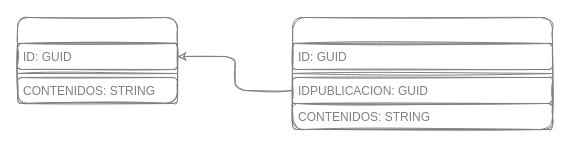
This 570x147 diagram has some shape labels left out. The shapes that lost their labels are listed below. From the top down, each one's box as (x1, y1, x2, y2) in pixels, then its label:
(16, 16, 178, 104): PUBLICACION
(292, 16, 552, 130): COMENTARIO
